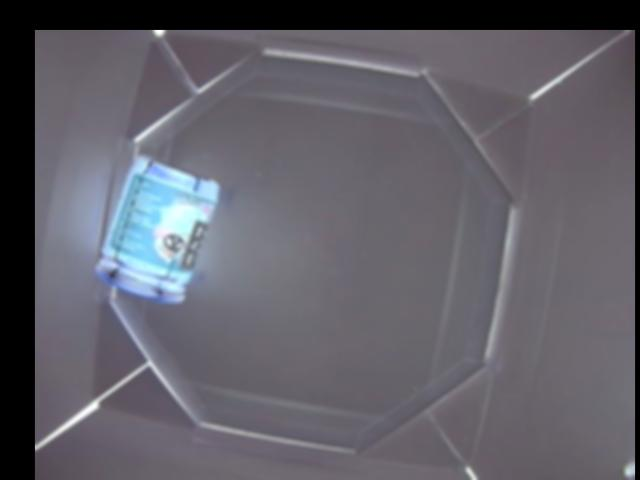Bottle: (91, 156, 219, 300)
